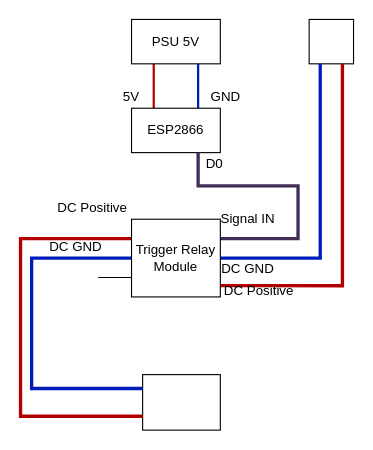
This 373x450 diagram has some shape labels left out. The centre of each missing label's shape, as x and y in pixels:
Lock-Module: point (181, 402)
PSU 9v: point (331, 41)
